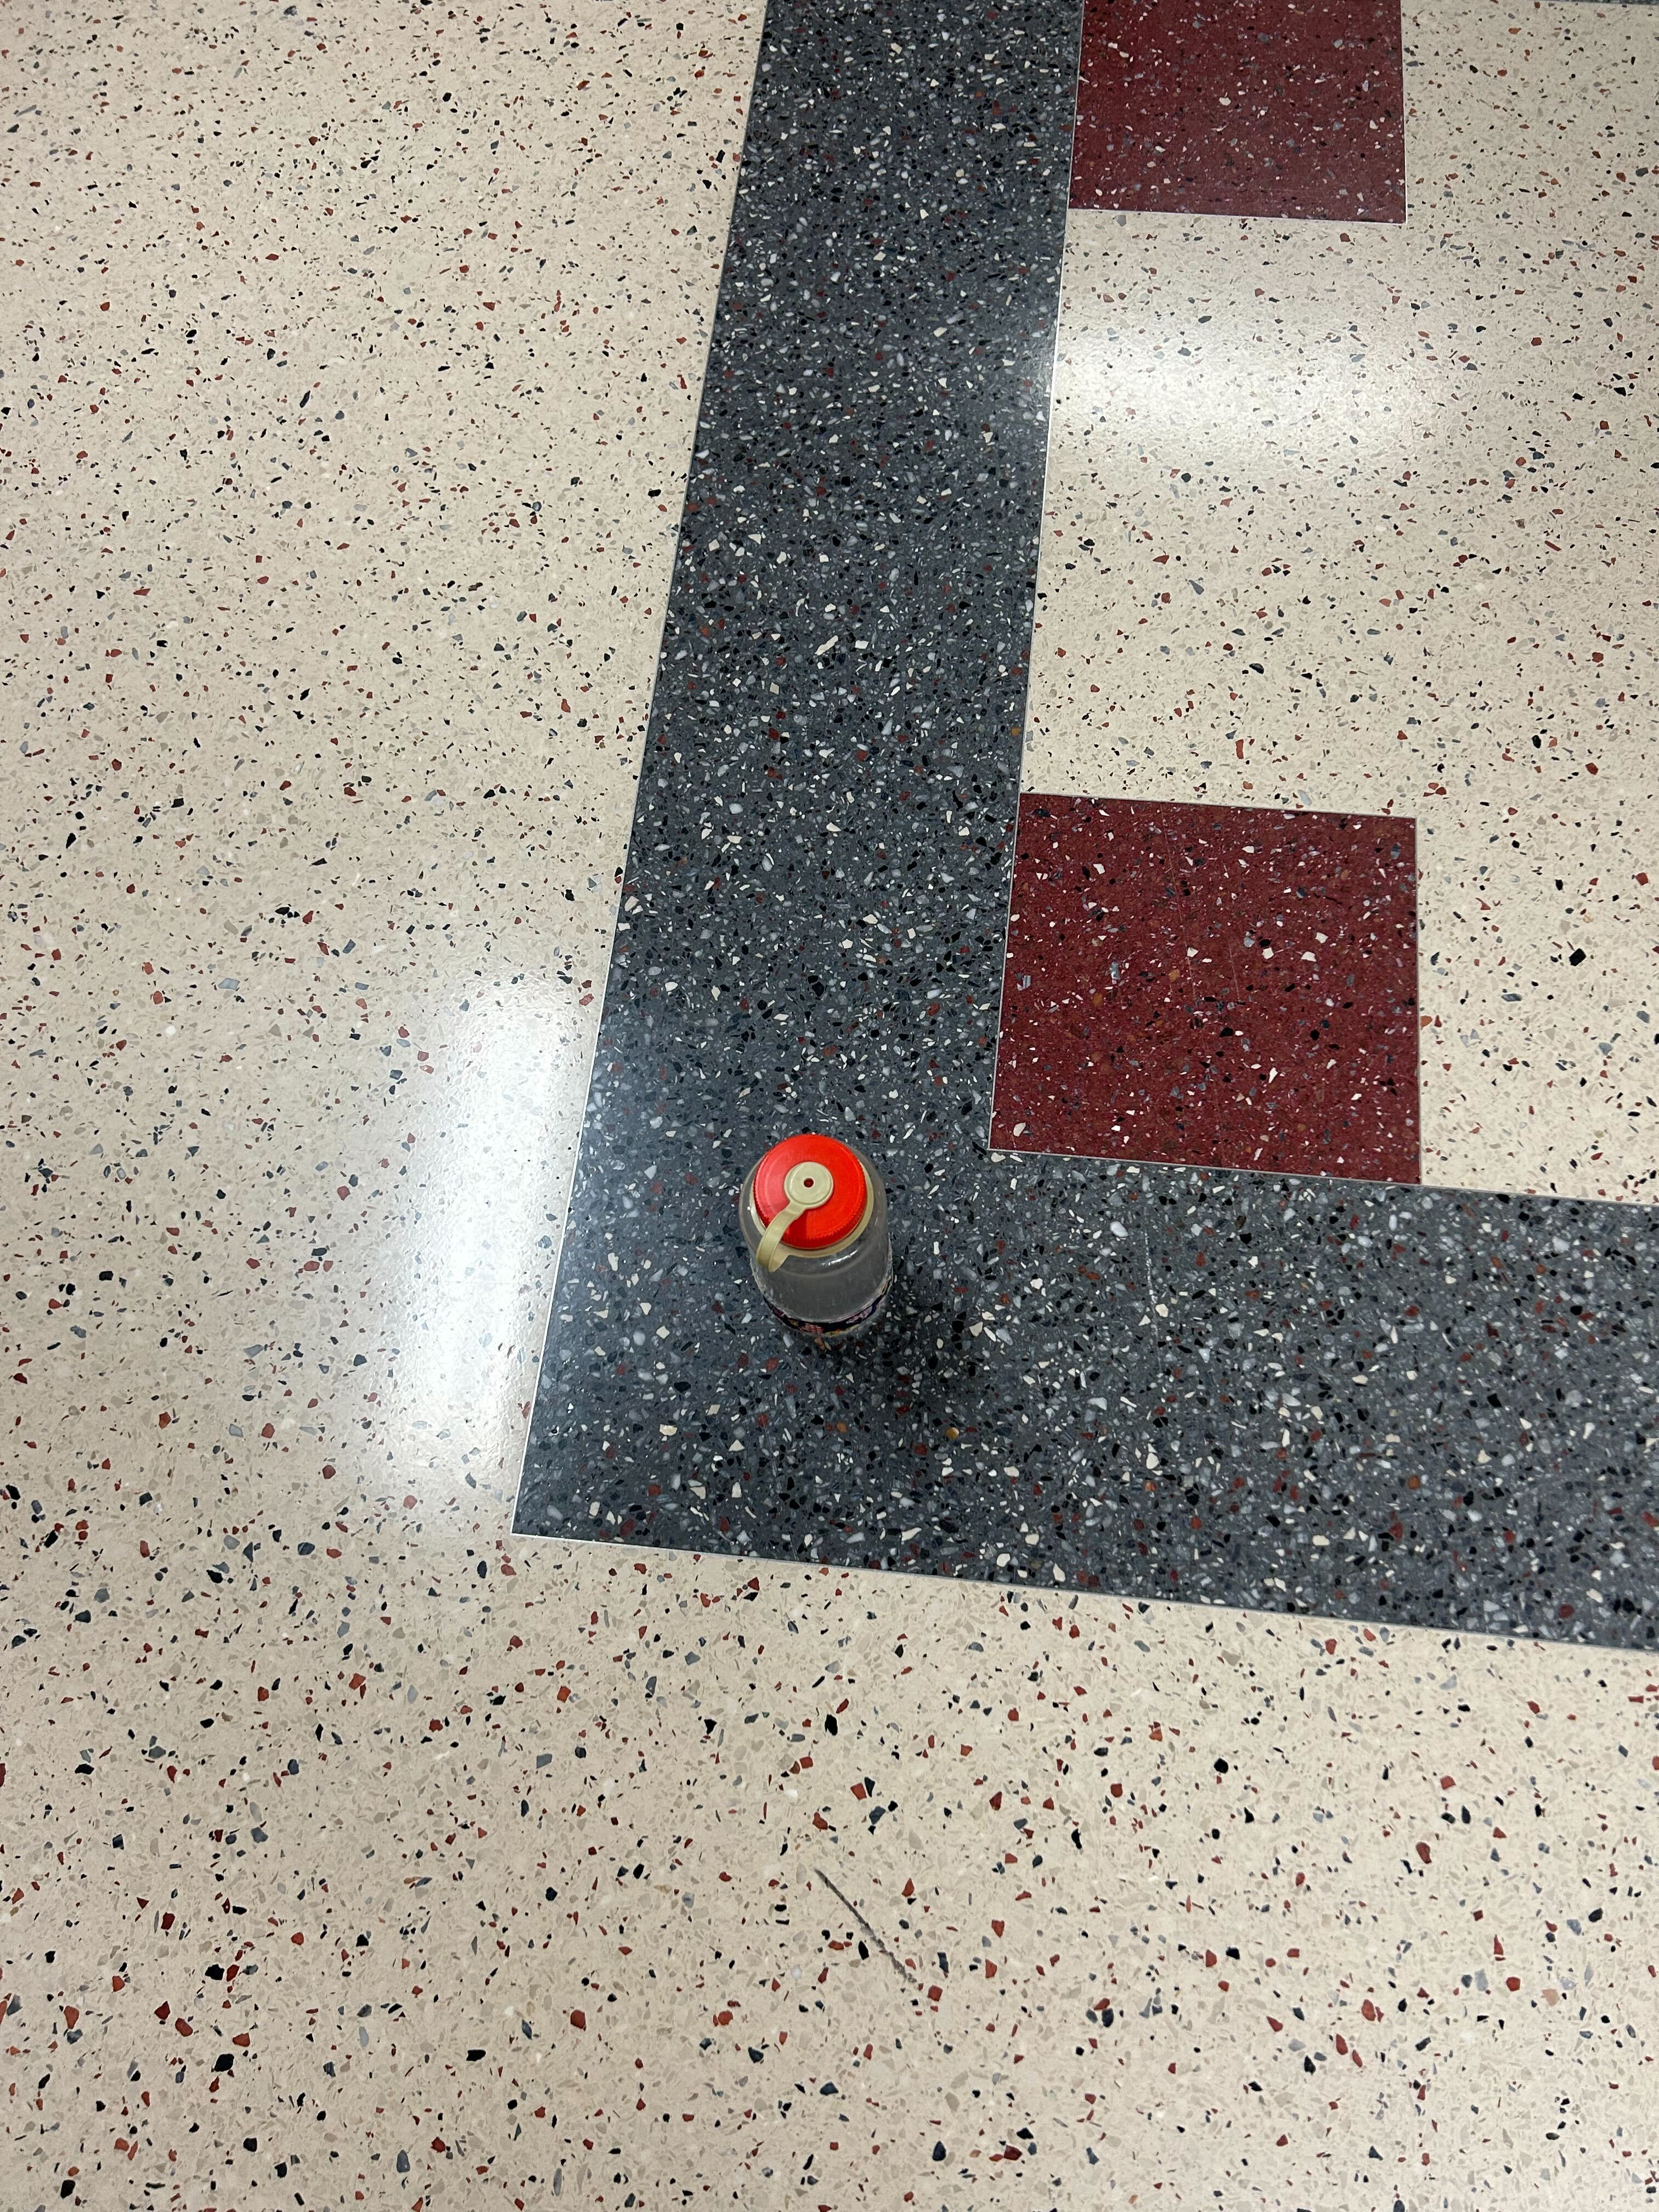bottle: (734, 1122, 897, 1336)
